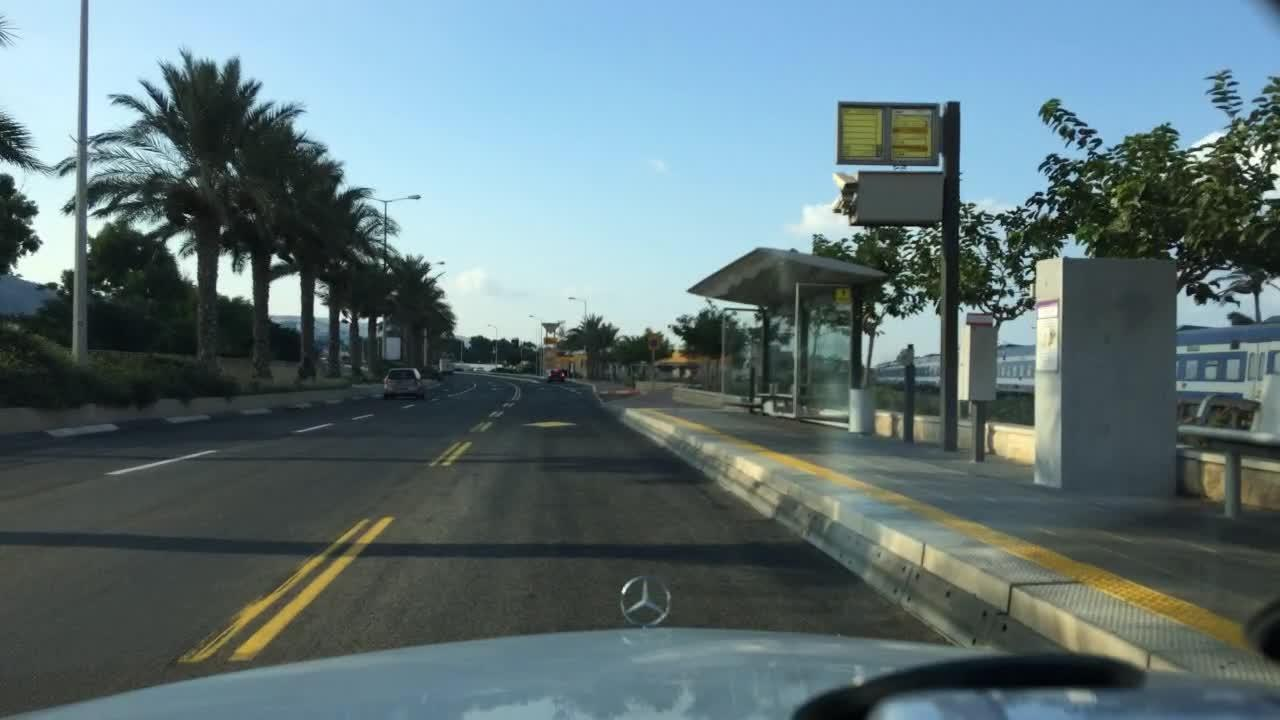Mercedes: (604, 558, 689, 638)
